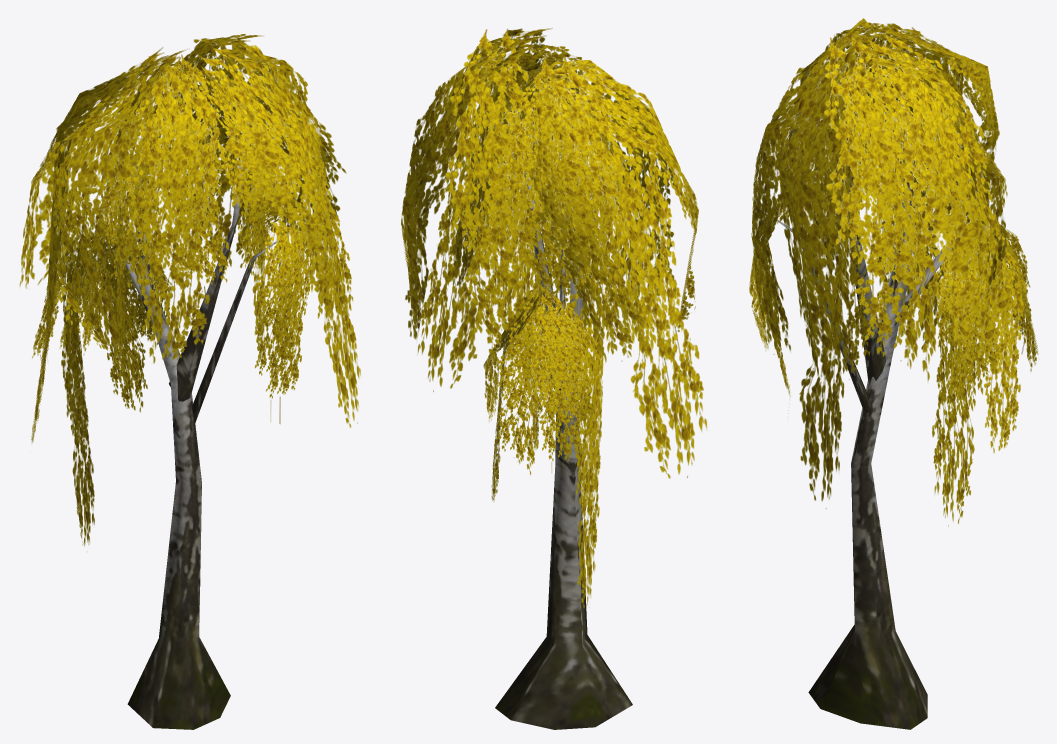
Rendered from stklib_autumnBirch_a_high.glb.
3 views of the same model, side by side, from view 1: azimuth 30°, elevation 25°; view 2: azimuth 150°, elevation 25°; view 3: azimuth 270°, elevation 25° (orthographic). The views are drawn at different scales.
Parts seen in each view (by area): view 1: birch_a.png__, birch_b.png__; view 2: birch_a.png__, birch_b.png__; view 3: birch_a.png__, birch_b.png__.
Part boxes in pixels (x1,y1,x2,y2): birch_a.png__: (19, 34, 360, 546); birch_b.png__: (123, 151, 290, 729); birch_a.png__: (401, 28, 706, 608); birch_b.png__: (495, 112, 632, 729); birch_a.png__: (749, 18, 1038, 526); birch_b.png__: (766, 163, 951, 729).
Size of the model in its own units: 7.18 by 14.42 by 5.52.
Materials: 2 (2 with a texture image).
